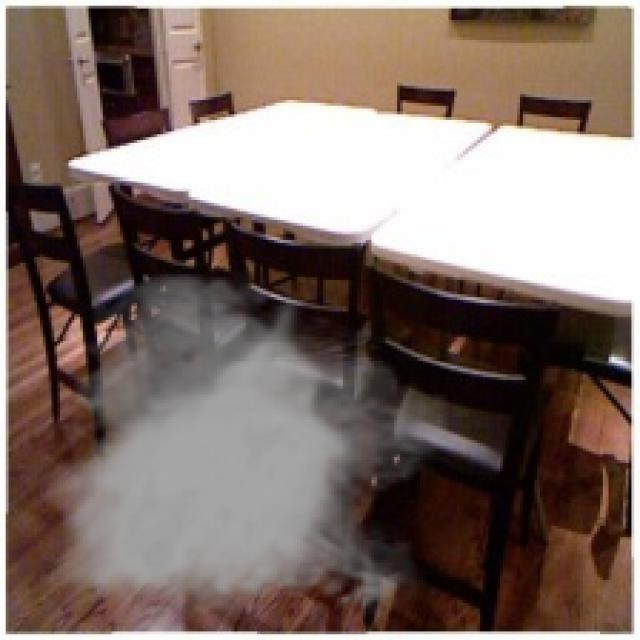smoke: (40, 269, 449, 620)
